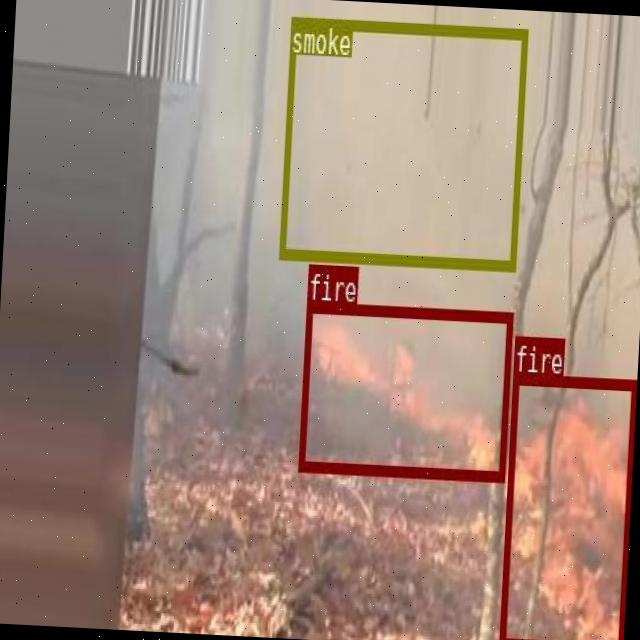fire: (298, 300, 513, 481), (498, 373, 636, 640)
smoke: (278, 16, 526, 270)
